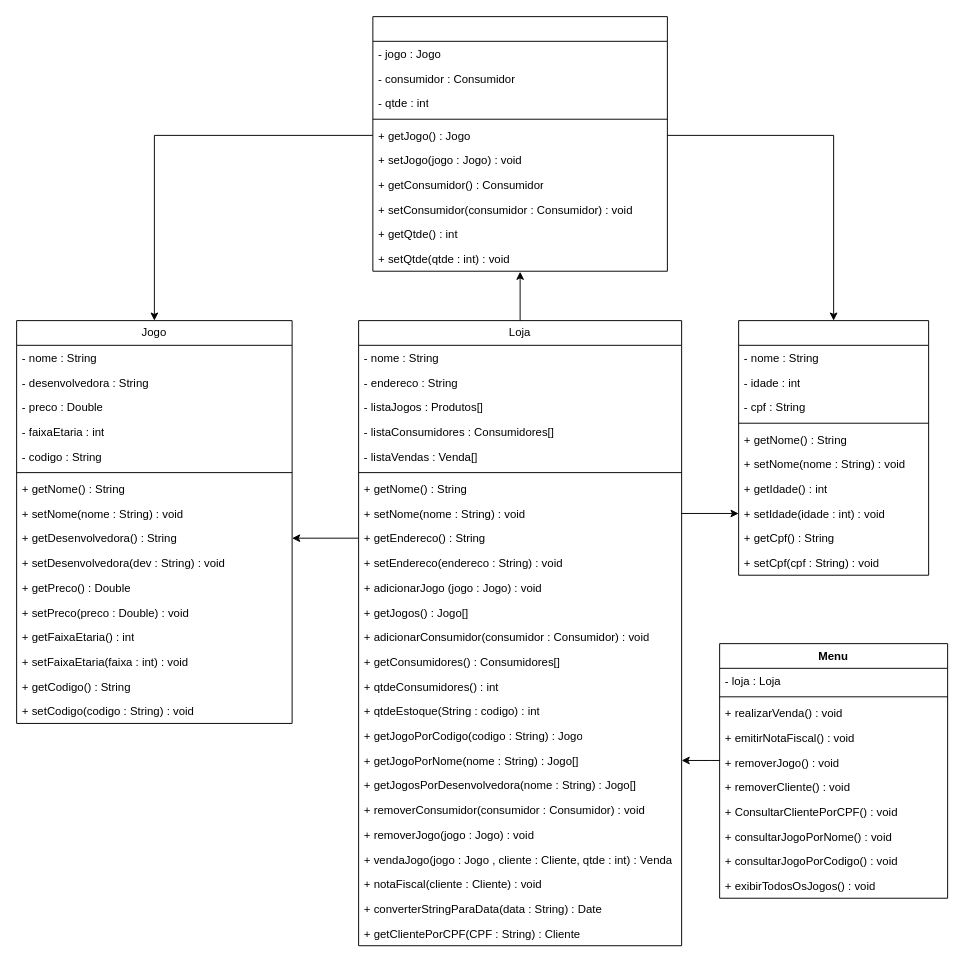
The diagram is 964 pixels wide and 965 high, and some of its shapes have lost their labels. The box of each missing label's shape, as (x1, y1, x2, y2) in pixels:
Consumidor: (738, 320, 929, 575)
Venda: (372, 16, 667, 271)
